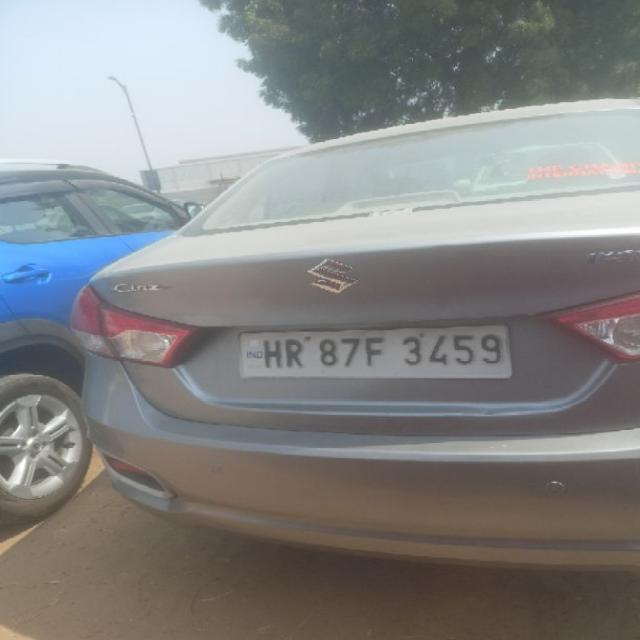license_plate: (236, 322, 514, 380)
